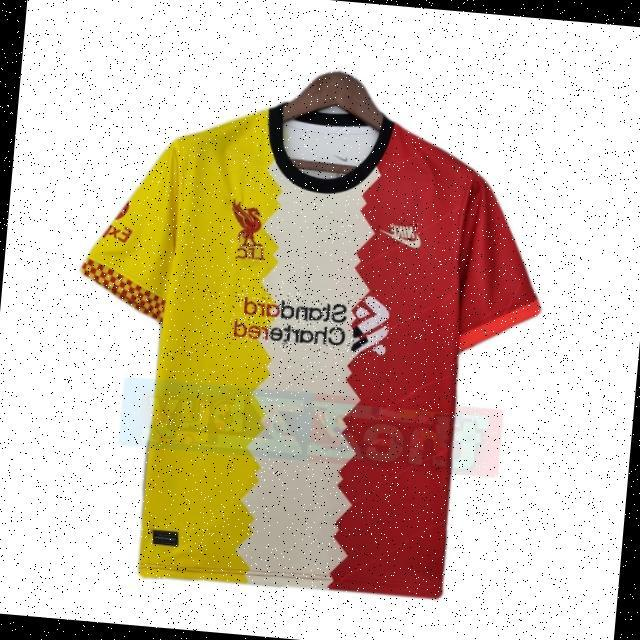Nike: (382, 220, 423, 246)
Standard Chartered: (229, 284, 392, 359)
